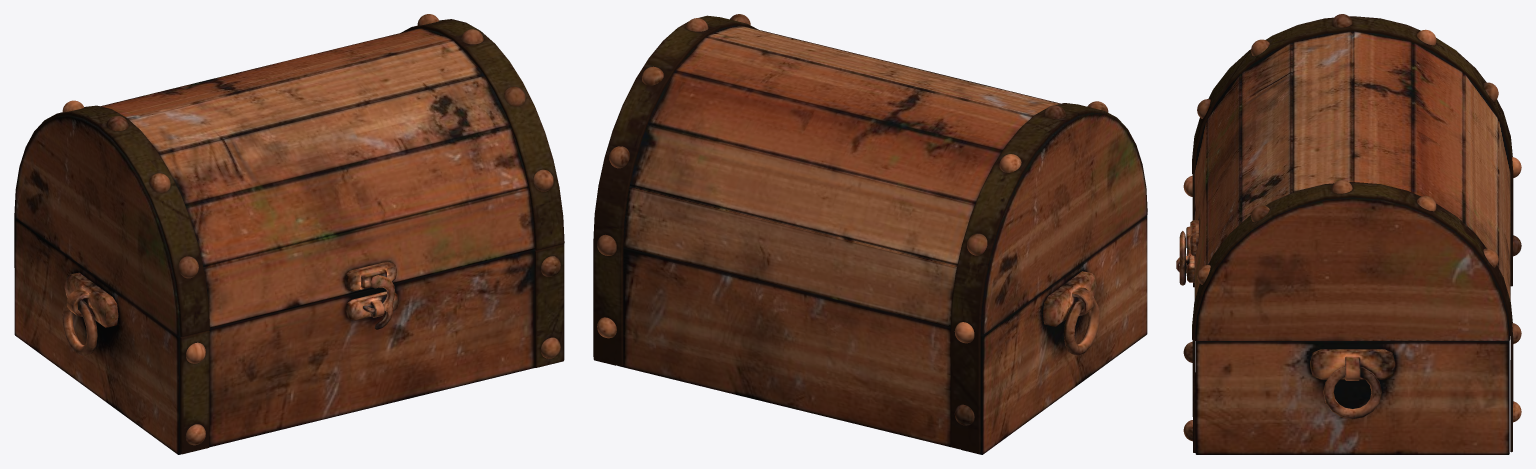
3 views of the same model, side by side, from view 1: azimuth 30°, elevation 25°; view 2: azimuth 150°, elevation 25°; view 3: azimuth 270°, elevation 25° (orthographic). The views are drawn at different scales.
Parts seen in each view (by area): view 1: Object_5, Object_3, Object_2, Object_4; view 2: Object_5, Object_3, Object_2, Object_4; view 3: Object_5, Object_3, Object_2, Object_4.
Part boxes in pixels (x1=…): Object_5: x1=14, y1=28, x2=562, y2=336; Object_3: x1=14, y1=217, x2=564, y2=454; Object_2: x1=14, y1=19, x2=564, y2=454; Object_4: x1=62, y1=14, x2=560, y2=445; Object_5: x1=598, y1=25, x2=1147, y2=335; Object_3: x1=594, y1=215, x2=1147, y2=454; Object_2: x1=593, y1=15, x2=1147, y2=453; Object_4: x1=597, y1=14, x2=1108, y2=425; Object_5: x1=1194, y1=31, x2=1510, y2=340; Object_3: x1=1195, y1=341, x2=1509, y2=454; Object_2: x1=1192, y1=16, x2=1513, y2=452; Object_4: x1=1176, y1=14, x2=1521, y2=441.
Bounding box in the file's own units: 3.84 × 2.35 × 2.75.
4 materials, 4 textured.
